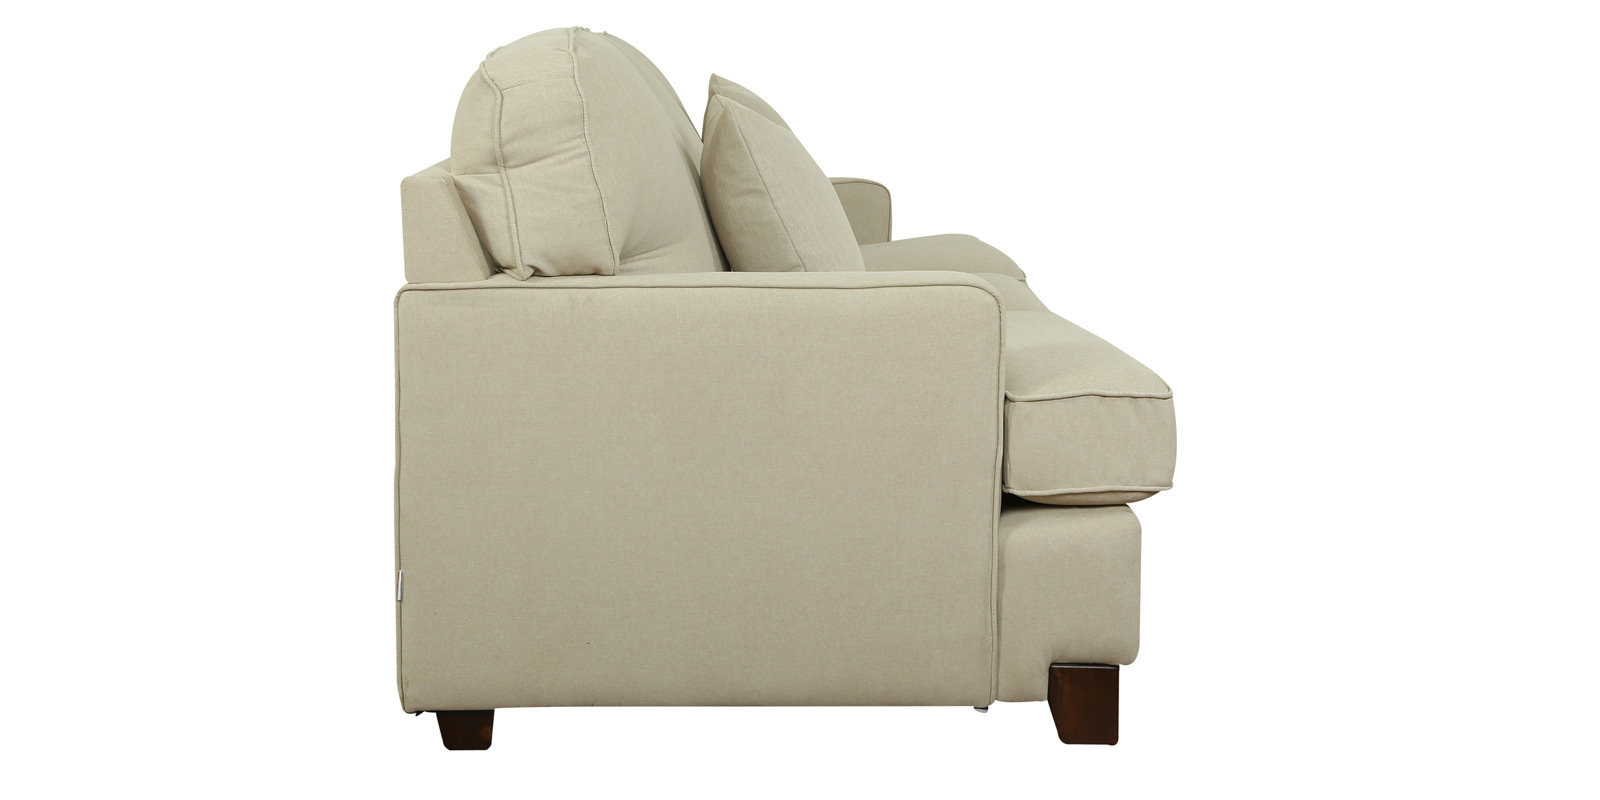Parana Three Seater Sofa in Beige Color by CasaCraft: (393, 21, 1179, 749)
